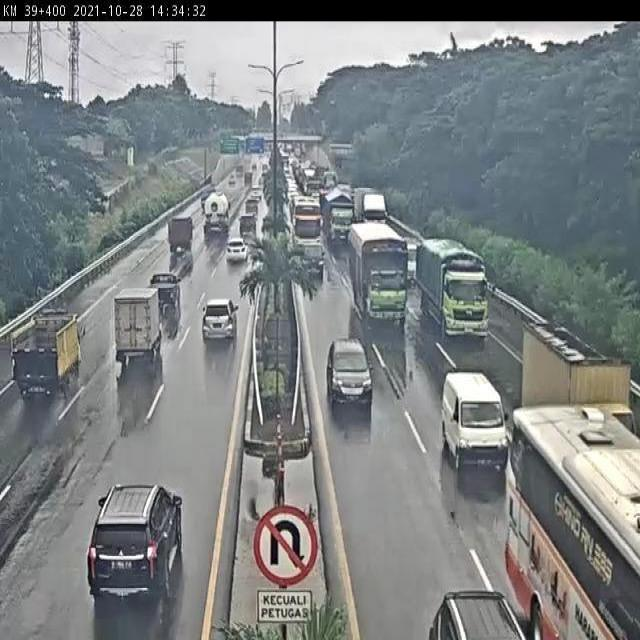big bus: (290, 193, 324, 247)
big truck: (508, 406, 640, 640), (413, 238, 493, 342), (348, 223, 410, 325), (323, 187, 355, 248), (355, 187, 390, 233)
car: (86, 483, 185, 601), (442, 373, 510, 476), (114, 290, 165, 366), (327, 341, 374, 416), (201, 296, 240, 345), (148, 271, 184, 312), (398, 234, 422, 282), (298, 240, 329, 276), (225, 238, 247, 262), (238, 216, 257, 235), (244, 198, 259, 214)
small truck: (523, 329, 640, 454), (12, 312, 85, 397), (167, 213, 196, 263), (204, 189, 233, 236)
